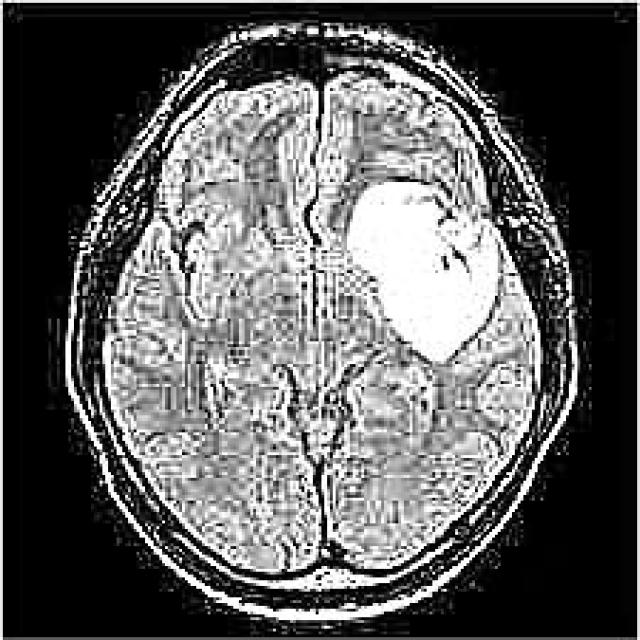Tumor-Cell: (336, 171, 507, 354)
